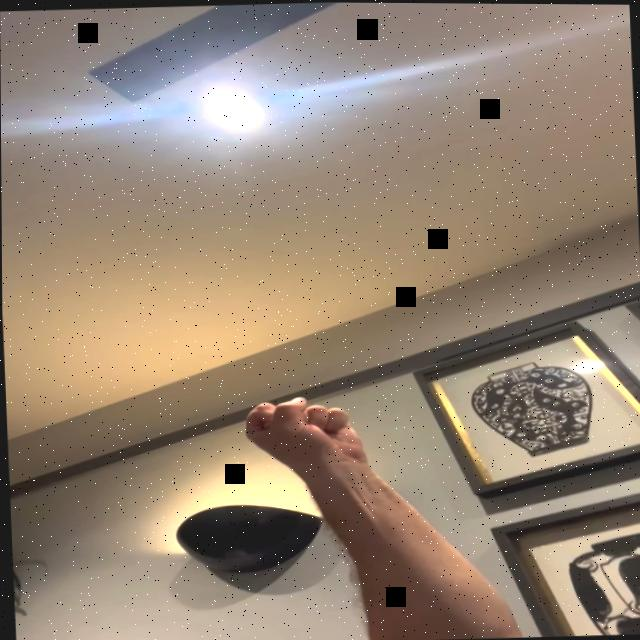Rock: (241, 393, 367, 468)
